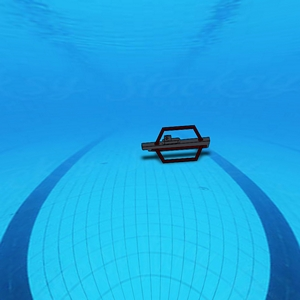submarine: (141, 123, 212, 167)
